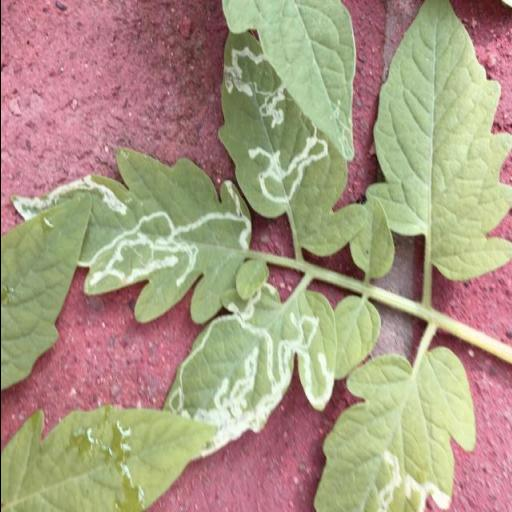disease_tomato: (12, 149, 253, 323), (216, 36, 368, 256), (165, 288, 333, 458), (311, 344, 477, 512)
